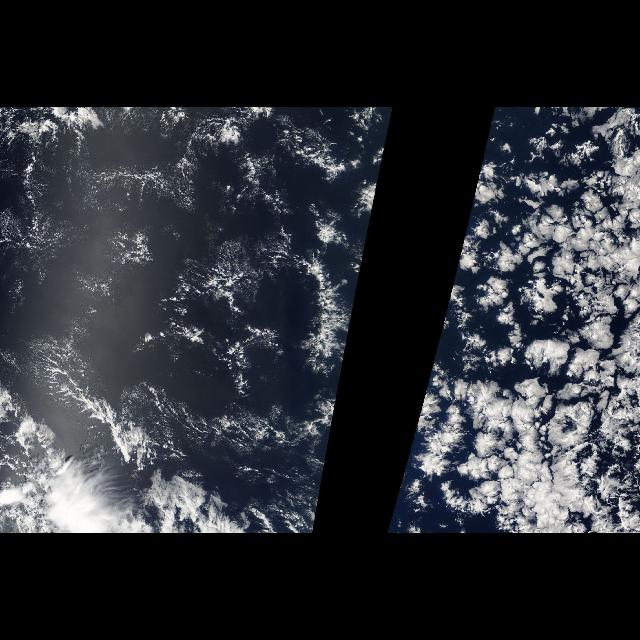Fish: (34, 116, 364, 480)
Flower: (404, 140, 638, 530)
Sugar: (0, 163, 160, 357)
